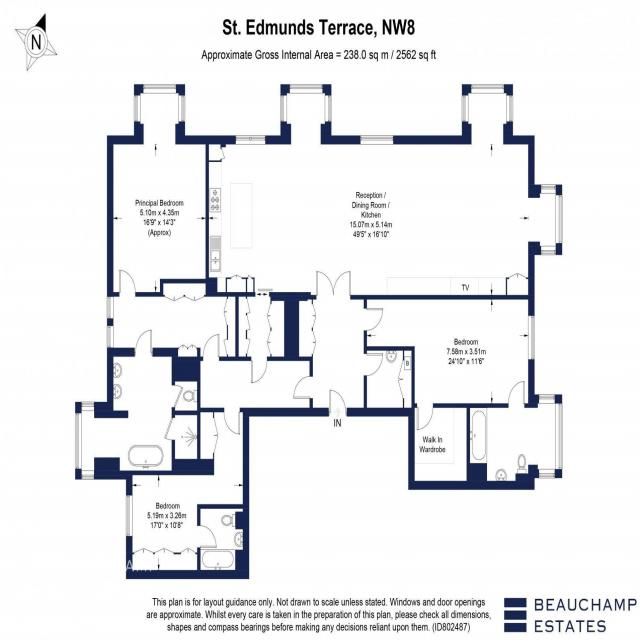DOOR: (328, 388, 348, 419), (222, 406, 242, 436), (250, 355, 270, 385), (292, 374, 314, 400), (362, 307, 384, 333), (416, 402, 435, 432), (507, 380, 526, 409), (196, 524, 218, 549), (362, 353, 384, 378), (202, 333, 220, 363), (119, 269, 137, 298), (135, 328, 153, 357), (171, 384, 184, 409), (163, 416, 175, 441)
ROOM: (202, 80, 565, 302), (362, 293, 536, 432), (105, 81, 210, 298), (125, 407, 250, 581)
WINDOW: (555, 402, 563, 471), (74, 412, 83, 470), (288, 82, 324, 95), (470, 83, 506, 95), (527, 314, 536, 361), (360, 134, 394, 146), (555, 194, 563, 245), (235, 134, 267, 146), (143, 83, 177, 94), (125, 495, 133, 537), (323, 93, 333, 124), (177, 94, 186, 123), (279, 94, 288, 123), (505, 94, 514, 123), (461, 94, 469, 124), (133, 94, 141, 123), (537, 393, 556, 405), (538, 467, 556, 479), (540, 244, 557, 256), (106, 296, 114, 320), (106, 325, 114, 349), (540, 183, 556, 195), (81, 400, 95, 413)
